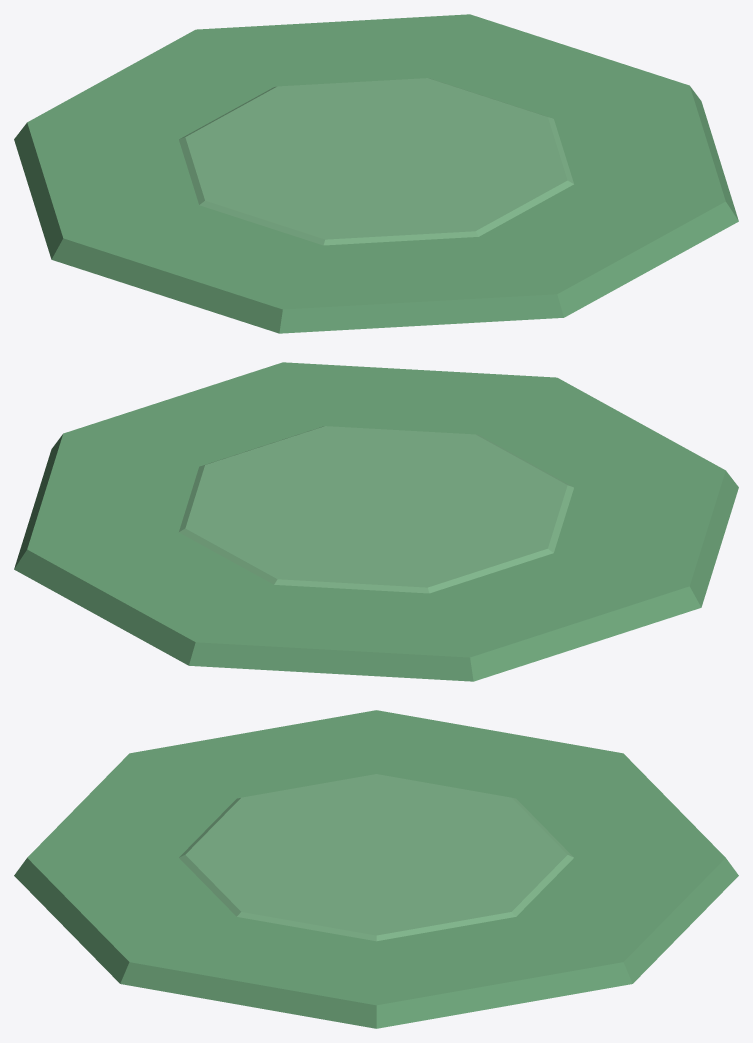
Rendered from prop_pad.glb.
3 renders of one model, top to bottom at view 1: azimuth 30°, elevation 25°; view 2: azimuth 150°, elevation 25°; view 3: azimuth 270°, elevation 25°, orthographic. The views are drawn at different scales.
Visible parts, largest first — view 1: body; view 2: body; view 3: body.
Part boxes in pixels (x1=…): body: x1=14, y1=14, x2=738, y2=333; body: x1=14, y1=362, x2=738, y2=681; body: x1=14, y1=710, x2=738, y2=1028.
Bounding box in the file's own units: 1.1 × 0.035 × 1.1.
